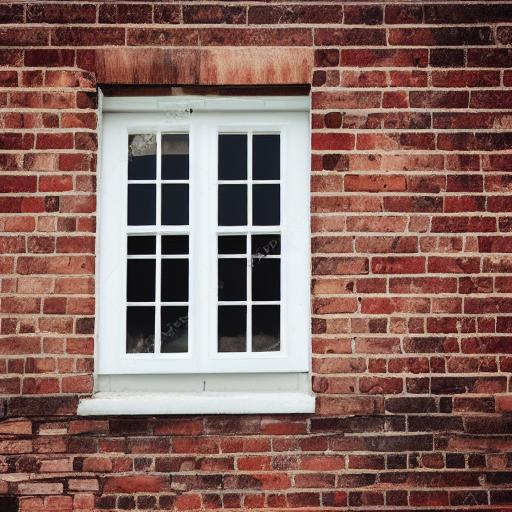Window: (75, 42, 319, 421)
